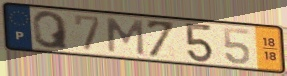5: (183, 21, 214, 64), (221, 26, 252, 66)
7: (145, 18, 177, 60), (72, 13, 102, 52)
M: (105, 16, 146, 57)
Q: (31, 10, 71, 51)
